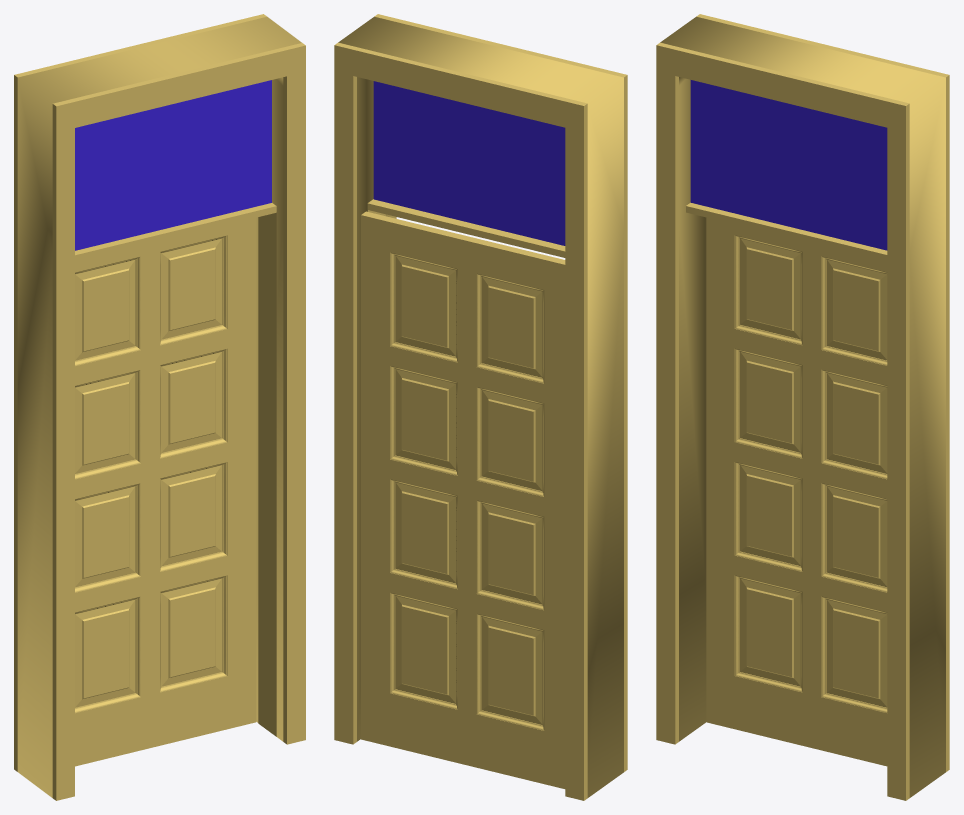
Rendered from door_wood.fbx.
3 renders of one model, left to right at view 1: azimuth 30°, elevation 25°; view 2: azimuth 150°, elevation 25°; view 3: azimuth 330°, elevation 25°, orthographic.
Parts seen in each view (by area): view 1: Doors-Supa_Doors-800 30 x 80 [542353]; view 2: Doors-Supa_Doors-800 30 x 80 [542353]; view 3: Doors-Supa_Doors-800 30 x 80 [542353].
Boxes of the visible parts, left/top/right/bottom form: Doors-Supa_Doors-800 30 x 80 [542353]: left=14, top=14, right=305, bottom=800; Doors-Supa_Doors-800 30 x 80 [542353]: left=334, top=14, right=627, bottom=800; Doors-Supa_Doors-800 30 x 80 [542353]: left=656, top=14, right=949, bottom=800.
Size of the model in its own units: 101 by 269 by 30.08.
